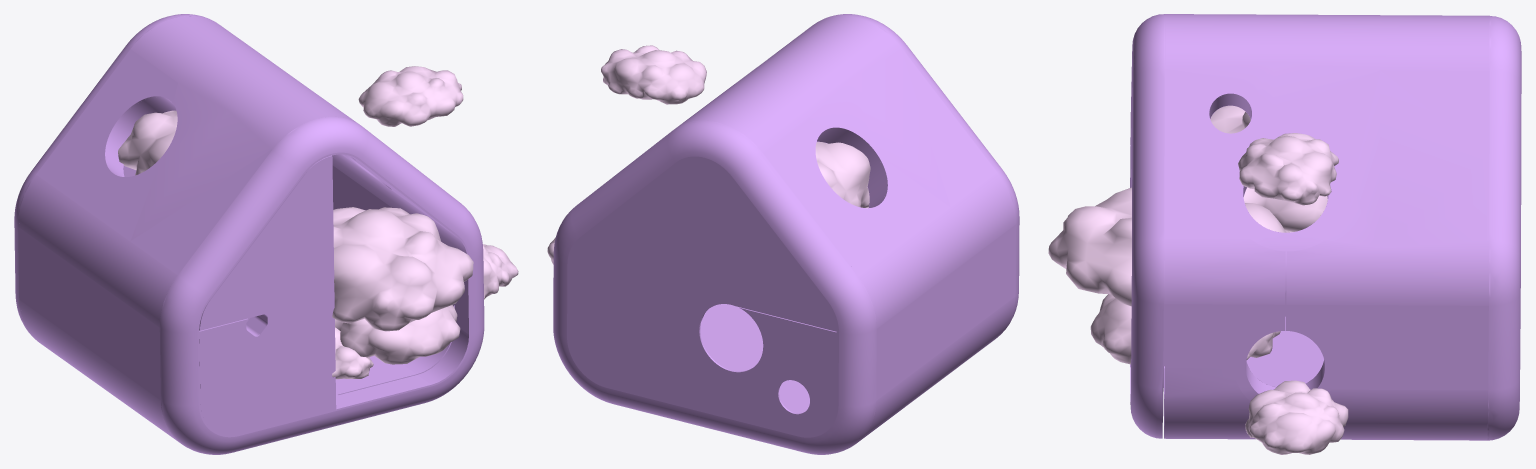
The model's file is Homie_clouds.glb.
The picture shows the model from 3 angles, left to right: view 1: azimuth 30°, elevation 25°; view 2: azimuth 150°, elevation 25°; view 3: azimuth 270°, elevation 25°; orthographic projection. The views are drawn at different scales.
Parts seen in each view (by area): view 1: connector; view 2: connector; view 3: connector.
Part boxes in pixels (left/top/right/bottom): connector: left=14, top=14, right=518, bottom=454; connector: left=547, top=14, right=1019, bottom=454; connector: left=1048, top=14, right=1521, bottom=454.
Size of the model in its own units: 0.6583 by 0.4764 by 0.5698.
